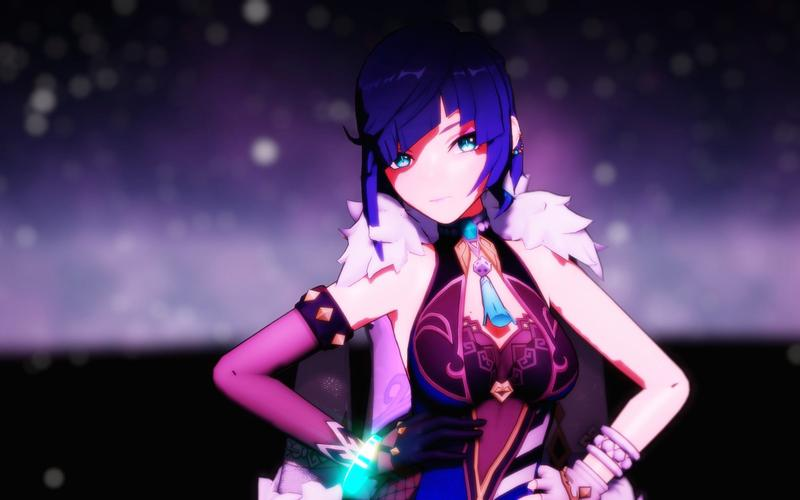夜兰: (206, 39, 693, 498)
